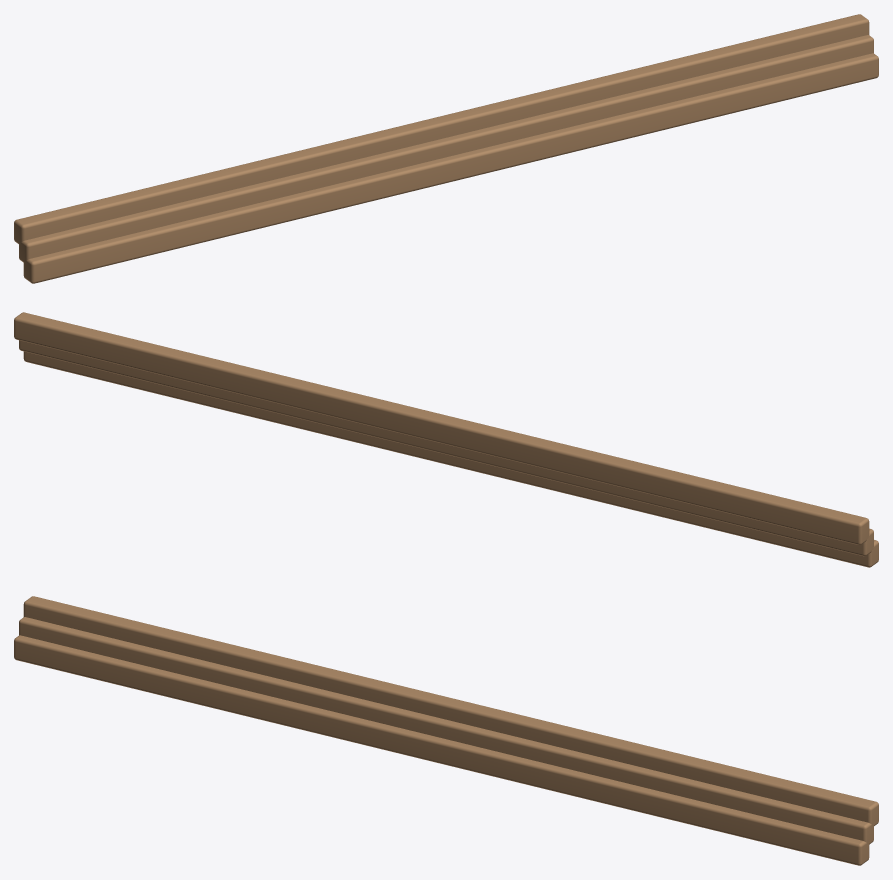
File: atelier-wall-molding.glb
The picture shows the model from 3 angles, top to bottom: view 1: azimuth 30°, elevation 25°; view 2: azimuth 150°, elevation 25°; view 3: azimuth 330°, elevation 25°; orthographic projection.
Parts seen in each view (by area): view 1: legs.217; view 2: legs.217; view 3: legs.217.
Part boxes in pixels (x1,y1,x2,y2): legs.217: [14, 14, 878, 283]; legs.217: [14, 312, 878, 567]; legs.217: [14, 596, 878, 865].
Size of the model in its own units: 1.8 by 0.105 by 0.071.
